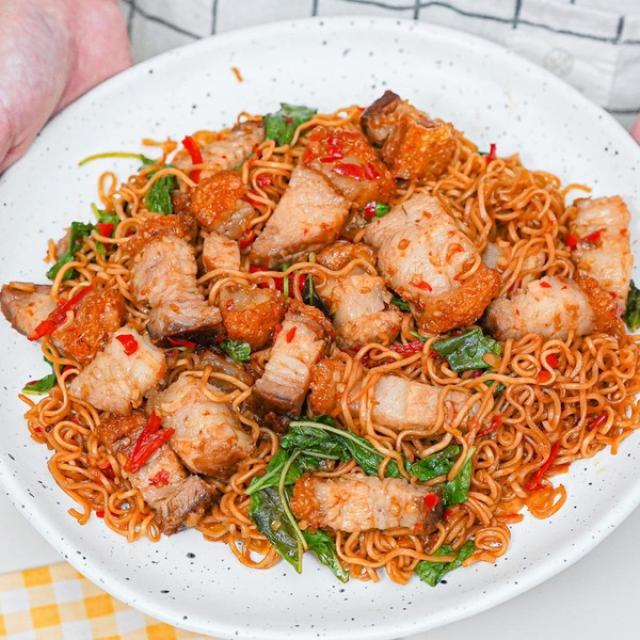carb: (521, 346, 637, 468), (450, 138, 560, 252)
meat: (168, 215, 461, 351), (76, 346, 236, 511)
stir-fried instant noodles: (29, 122, 640, 579)
vegetable: (273, 428, 472, 492)
